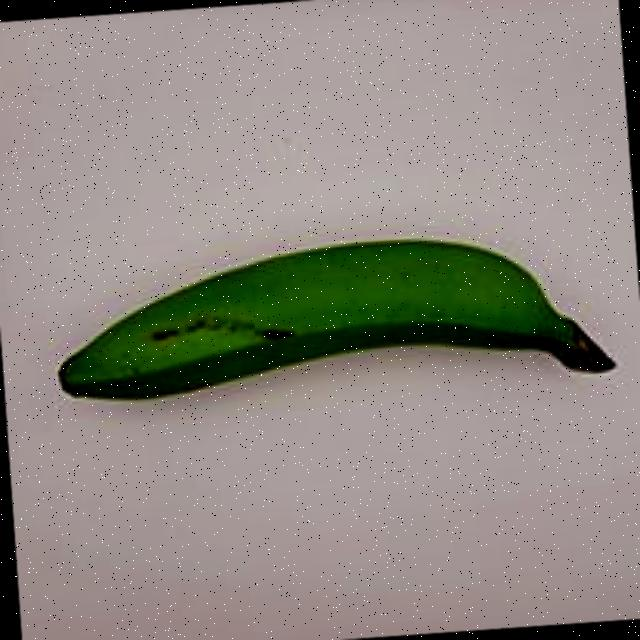Raw: (12, 192, 632, 464)
